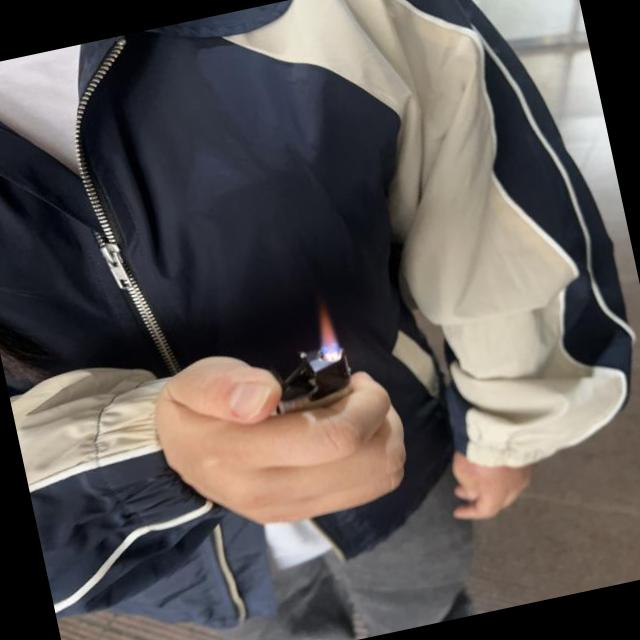Fire: (312, 306, 342, 360)
